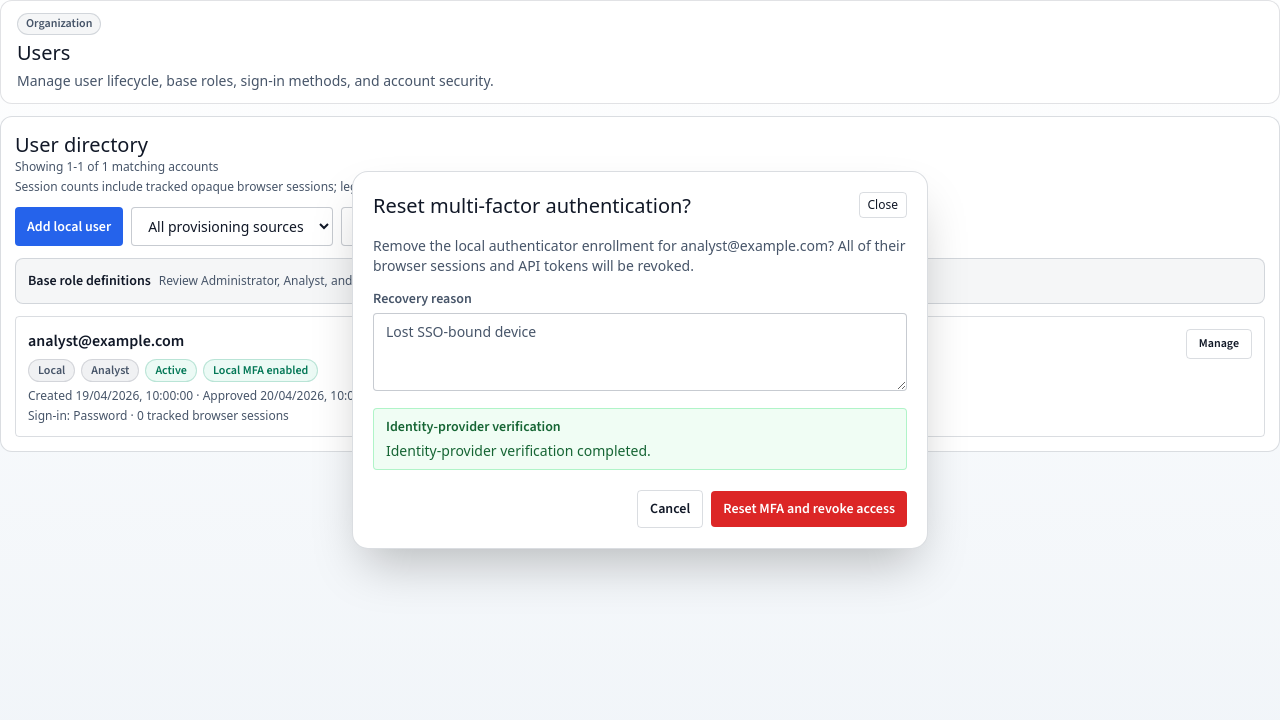
Test: UsersPage DOM workflows › uses the current OIDC session for MFA recovery and resumes after provider verification
Check: the text box with id "admin-mfa-reset-reason" holds "Lost SSO-bound device", box [373, 313, 907, 391]
Click the button "Reset MFA and revoke access". click: (809, 509)
box: [711, 491, 907, 527]
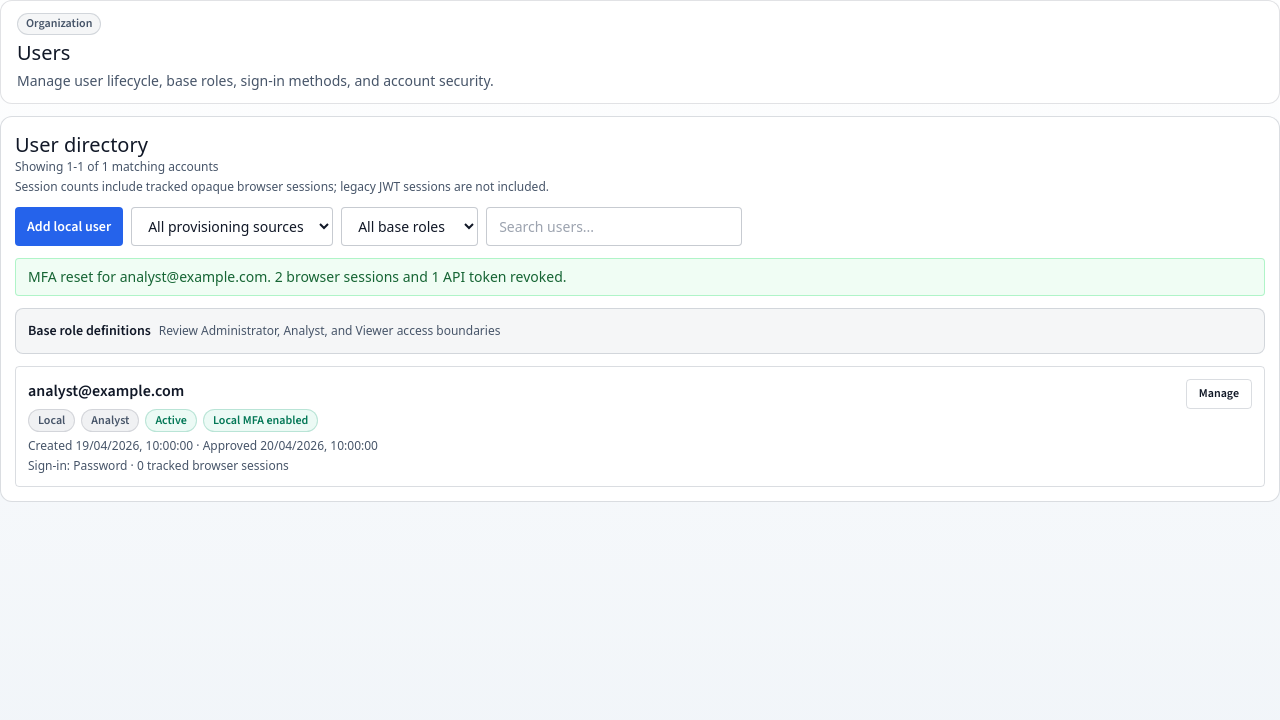
Check: the label with id "admin-mfa-reset-reason" is gone
